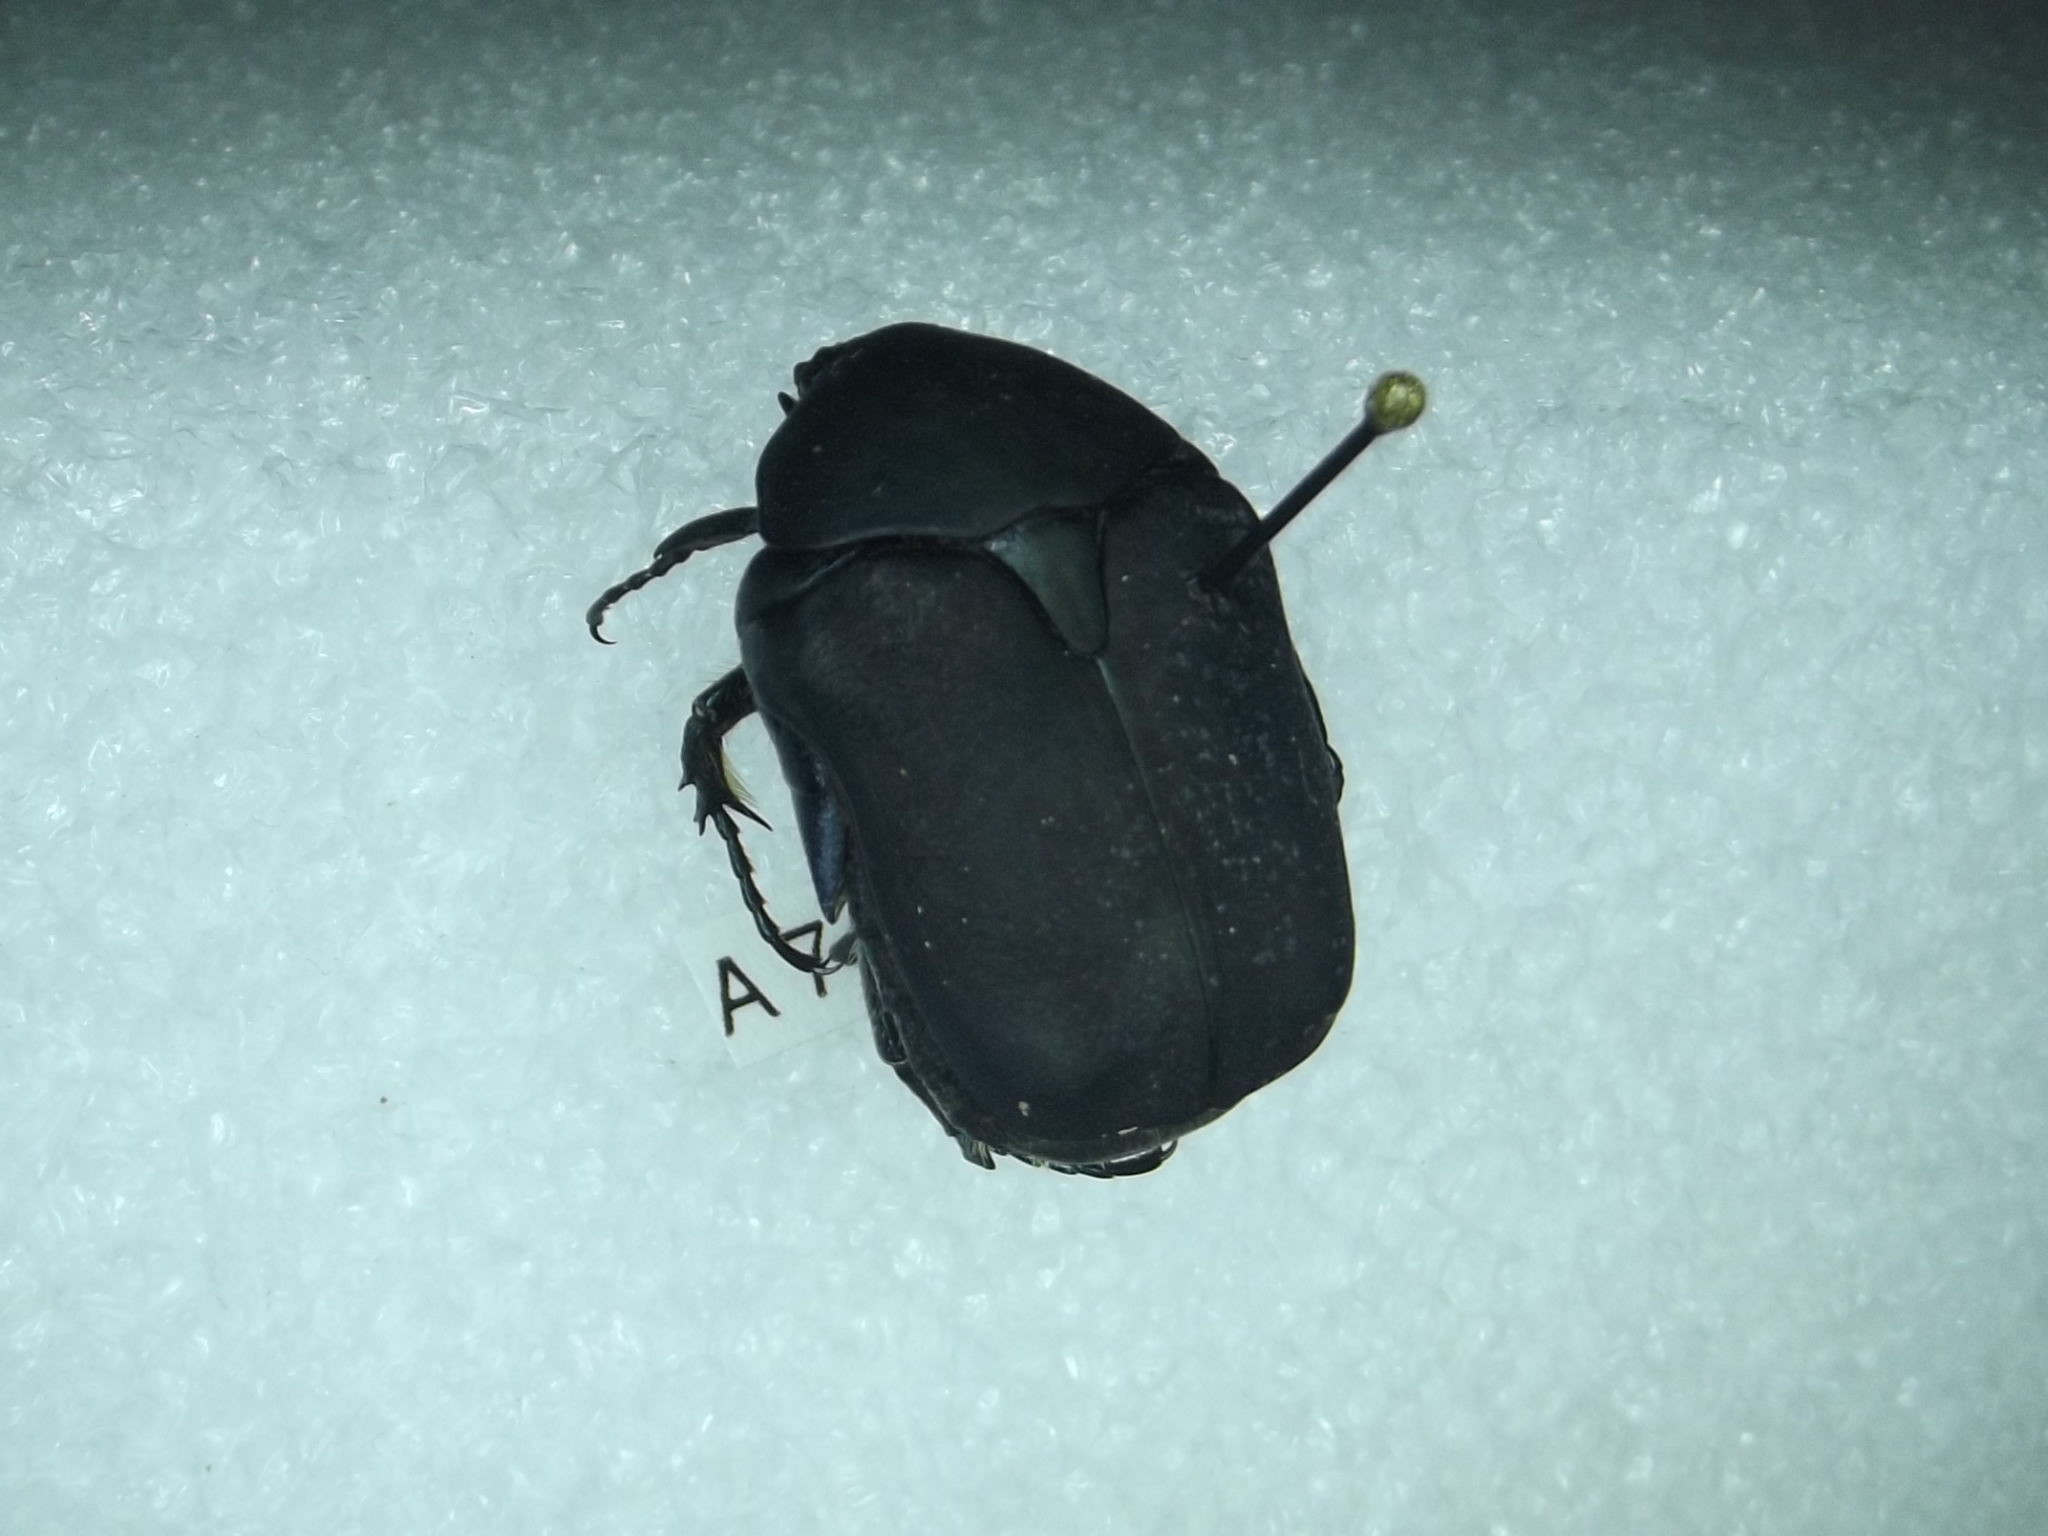Protaetia_afflicta: (571, 323, 1371, 1208)
